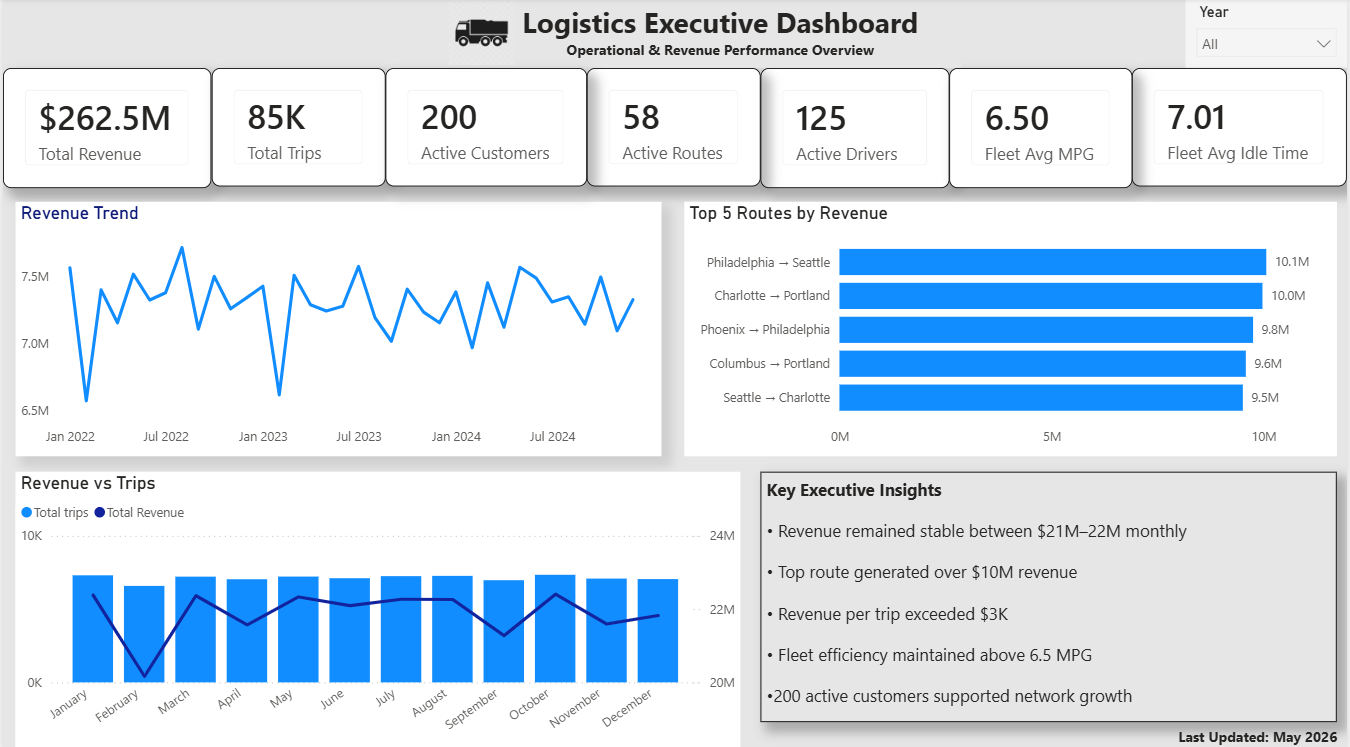

The dashboard page shown, as its layout file describes it:
{"tool":"powerbi","page":{"name":"Logistic Executive Dashboard","canvas":[1280,720],"ordinal":0},"visuals":[{"type":"cardVisual","fields":{"Data":["Sum(public executive_dashboard_view.total_revenue)"]},"box":[0,66.1,198.3,114.2],"z":0},{"type":"cardVisual","fields":{"Data":["Sum(public executive_dashboard_view.active_drivers)"]},"box":[721.3,66.1,180.3,114.2],"z":1000},{"type":"cardVisual","fields":{"Data":["Sum(public executive_dashboard_view.total_trips)"]},"box":[198.8,66.7,165.5,113.1],"z":2000},{"type":"cardVisual","fields":{"Data":["Sum(public executive_dashboard_view.active_routes)"]},"box":[556,66.7,165.5,113.1],"z":3000},{"type":"cardVisual","fields":{"Data":["Sum(public executive_dashboard_view.fleet_avg_idle_time)"]},"box":[1075,66.7,204.8,113.1],"z":4000},{"type":"cardVisual","fields":{"Data":["Sum(public executive_dashboard_view.fleet_avg_mpg)"]},"box":[901.6,66.1,174.3,114.2],"z":5000},{"type":"lineChart","title":"Revenue Trend","fields":{"Y":["Sum(public monthly_performance_view.total_revenue)"],"Category":["public monthly_performance_view.month.Variation.Date Hierarchy.Year","public monthly_performance_view.month.Variation.Date Hierarchy.Quarter","public monthly_performance_view.month.Variation.Date Hierarchy.Month","public monthly_performance_view.month.Variation.Date Hierarchy.Day"]},"box":[11.5,193.6,615.3,242],"z":6000},{"type":"textbox","box":[453.2,0,459.2,66.1],"z":7000},{"type":"cardVisual","fields":{"Data":["Sum(public executive_dashboard_view.active_customers)"]},"box":[364.3,66.7,191.7,113.1],"z":8000},{"type":"textbox","box":[1114.3,689.3,165.5,31],"z":9000},{"type":"image","box":[425.5,0,61.3,66.1],"z":10000},{"type":"textbox","box":[721,451,549,238.2],"z":11000},{"type":"clusteredBarChart","title":"Top 5 Routes by Revenue","fields":{"Y":["Sum(public route_performance_view.total_revenue)"],"Category":["public route_performance_view.route_name"]},"box":[648.4,193.6,621.7,242],"z":12000},{"type":"clusteredBarChart","title":"Revenue by Year","fields":{"Category":["public monthly_performance_view.month.Variation.Date Hierarchy.Year"],"Y":["Sum(public monthly_performance_view.total_revenue)"]},"box":[11.5,484.1,615.3,235.7],"z":13000},{"type":"slicer","fields":{"Values":["public monthly_performance_view.month.Variation.Date Hierarchy.Year"]},"box":[1126.1,0,154.1,66.2],"z":14000},{"type":"lineStackedColumnComboChart","title":"Revenue vs Trips","fields":{"Y":["Sum(public monthly_performance_view.total_trips)"],"Y2":["Sum(public monthly_performance_view.total_revenue)"],"Category":["public monthly_performance_view.month.Variation.Date Hierarchy.Year","public monthly_performance_view.month.Variation.Date Hierarchy.Quarter","public monthly_performance_view.month.Variation.Date Hierarchy.Month","public monthly_performance_view.month.Variation.Date Hierarchy.Day"]},"box":[11.5,451,690.4,268.8],"z":15000}]}

Visuals, with their boxes in screenshot pixels (x1, y1, x2, y2), scaled from the page's 1280x720 canvas onto the 1350x747 screenshot:
cardVisual - Sum(public executive_dashboard_view.total_revenue): (0, 69, 209, 187)
cardVisual - Sum(public executive_dashboard_view.active_drivers): (761, 69, 951, 187)
cardVisual - Sum(public executive_dashboard_view.total_trips): (210, 69, 384, 187)
cardVisual - Sum(public executive_dashboard_view.active_routes): (586, 69, 761, 187)
cardVisual - Sum(public executive_dashboard_view.fleet_avg_idle_time): (1134, 69, 1349, 187)
cardVisual - Sum(public executive_dashboard_view.fleet_avg_mpg): (951, 69, 1135, 187)
"Revenue Trend" lineChart: (12, 201, 661, 452)
textbox: (478, 0, 962, 69)
cardVisual - Sum(public executive_dashboard_view.active_customers): (384, 69, 586, 187)
textbox: (1175, 715, 1349, 746)
image: (449, 0, 513, 69)
textbox: (760, 468, 1339, 715)
"Top 5 Routes by Revenue" clusteredBarChart: (684, 201, 1340, 452)
"Revenue by Year" clusteredBarChart: (12, 502, 661, 746)
slicer - public monthly_performance_view.month.Variation.Date Hierarchy.Year: (1188, 0, 1349, 69)
"Revenue vs Trips" lineStackedColumnComboChart: (12, 468, 740, 746)
